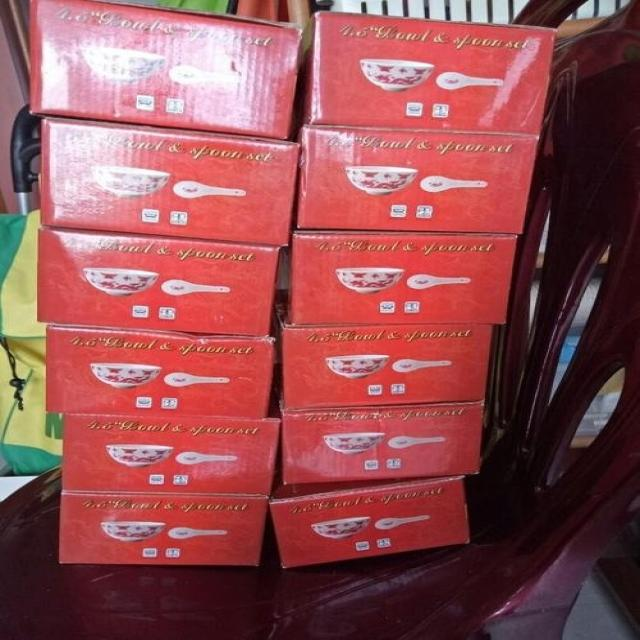box: (28, 1, 305, 141), (291, 11, 557, 139), (40, 121, 302, 249), (293, 125, 541, 232), (37, 227, 280, 336), (271, 299, 492, 410), (279, 232, 520, 326), (45, 323, 276, 418), (270, 477, 474, 569), (60, 414, 283, 495), (284, 405, 483, 486), (58, 495, 268, 566)
